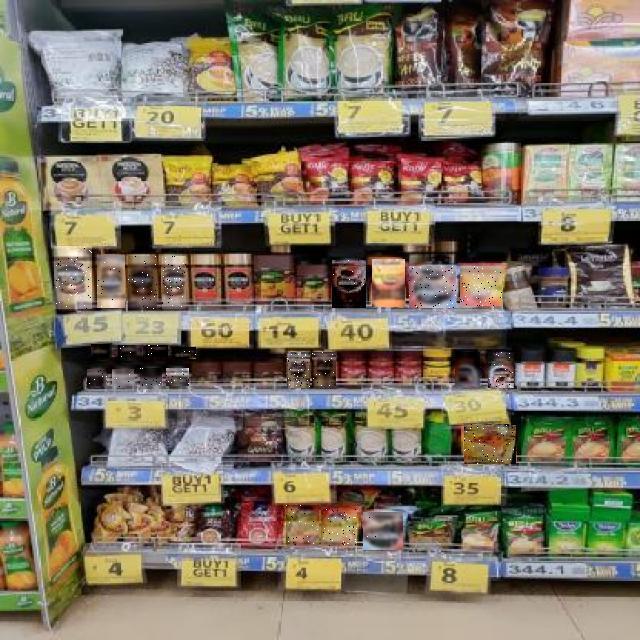Coffee: (54, 246, 92, 309), (464, 424, 516, 464), (409, 266, 456, 308), (460, 266, 502, 306), (332, 260, 366, 308), (372, 259, 405, 307), (128, 256, 157, 310), (363, 512, 403, 550), (97, 255, 125, 308), (321, 508, 357, 546), (286, 505, 319, 546), (162, 256, 186, 309), (488, 352, 514, 388), (456, 352, 482, 386), (287, 352, 310, 388), (312, 352, 336, 386), (140, 368, 162, 389), (166, 369, 189, 387), (112, 370, 134, 388), (88, 370, 108, 388), (92, 345, 114, 361), (118, 346, 142, 360), (146, 346, 168, 360), (172, 347, 196, 359)
